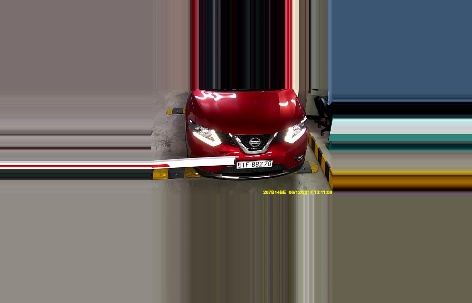plate: (237, 157, 274, 169)
